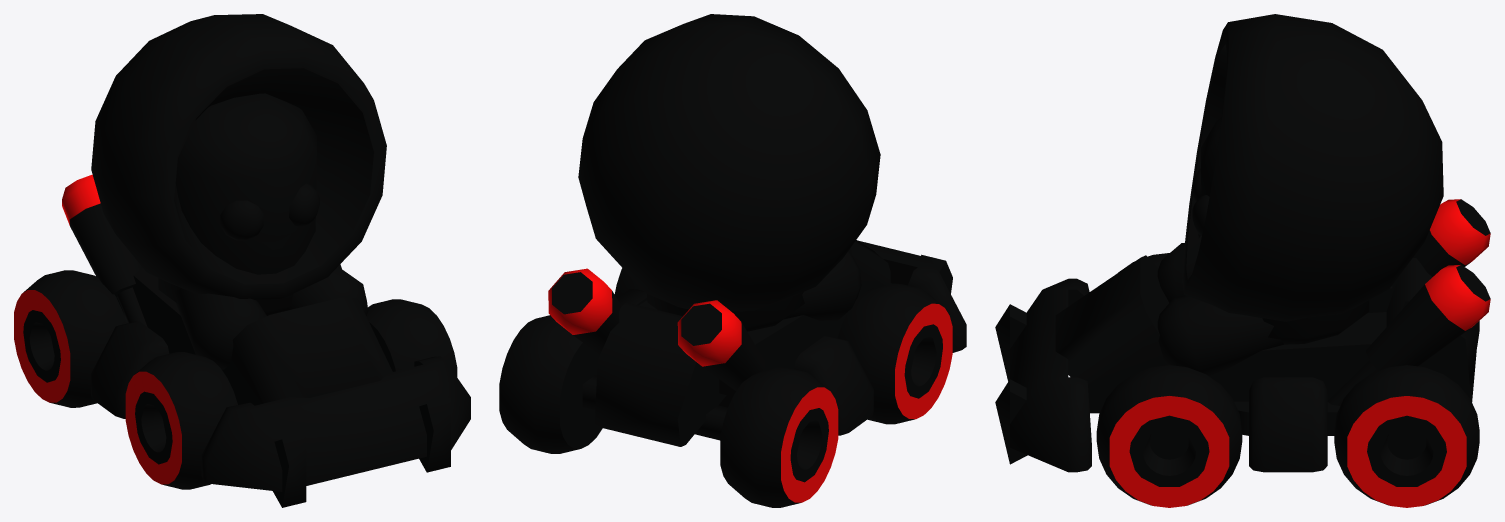
Rendered from kart-oopi.glb.
3 renders of one model, left to right at view 1: azimuth 30°, elevation 25°; view 2: azimuth 150°, elevation 25°; view 3: azimuth 270°, elevation 25°, orthographic. The views are drawn at different scales.
Parts seen in each view (by area): view 1: character, kart-oopi, wheel-back-right, wheel-front-right, wheel-front-left; view 2: character, kart-oopi, wheel-back-right, wheel-front-right, wheel-back-left; view 3: character, kart-oopi, wheel-front-left, wheel-back-left.
Boxes of the visible parts, <box> form: character: <box>91,14,386,369</box>; kart-oopi: <box>62,174,470,507</box>; wheel-back-right: <box>14,270,126,407</box>; wheel-front-right: <box>125,352,237,489</box>; wheel-front-left: <box>366,299,457,376</box>; character: <box>578,14,880,331</box>; kart-oopi: <box>548,240,966,446</box>; wheel-back-right: <box>720,367,838,507</box>; wheel-front-right: <box>838,283,952,424</box>; wheel-back-left: <box>499,315,602,453</box>; character: <box>1157,14,1443,375</box>; kart-oopi: <box>995,199,1490,472</box>; wheel-front-left: <box>1096,365,1242,507</box>; wheel-back-left: <box>1334,365,1479,507</box>.
Size of the model in its own units: 0.9744 by 1.33 by 1.43.
Materials: 1 (1 with a texture image).
